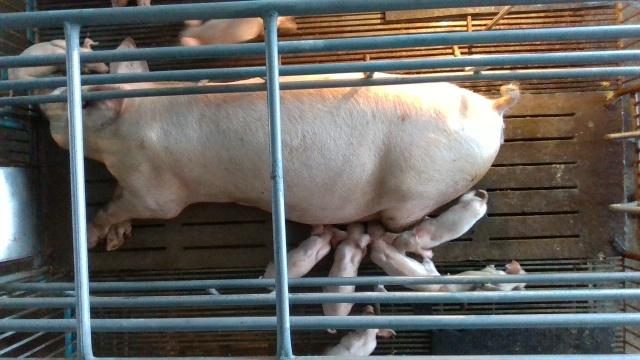piglet: (394, 189, 487, 258), (360, 222, 444, 292), (322, 224, 371, 333), (263, 226, 342, 290), (8, 36, 109, 79), (326, 305, 397, 356), (180, 16, 298, 46), (442, 259, 527, 291)
sow-sleep: (34, 38, 522, 250)
